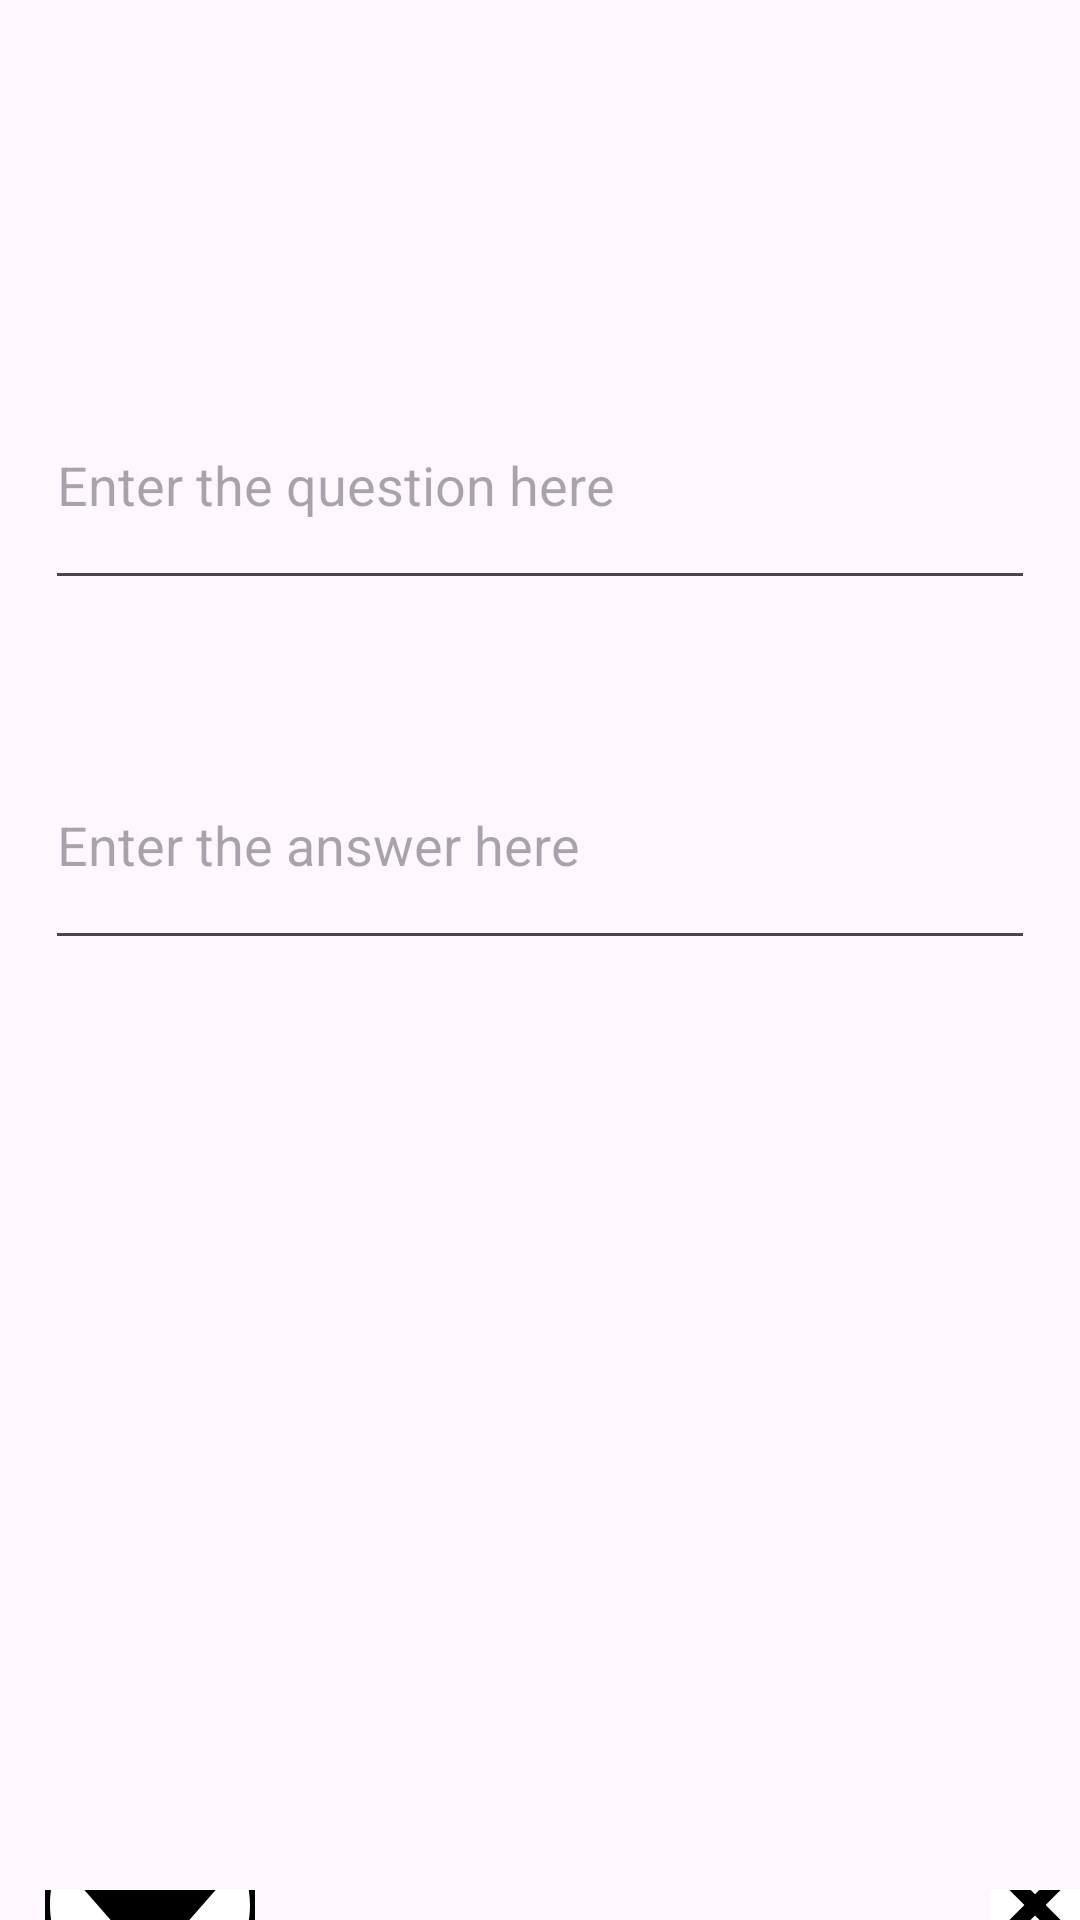

Where icons sit on this 1080px×1920px app screen, as detection(x1, y1, x2, y2):
cross hide: detection(1009, 1890, 1061, 1920)
